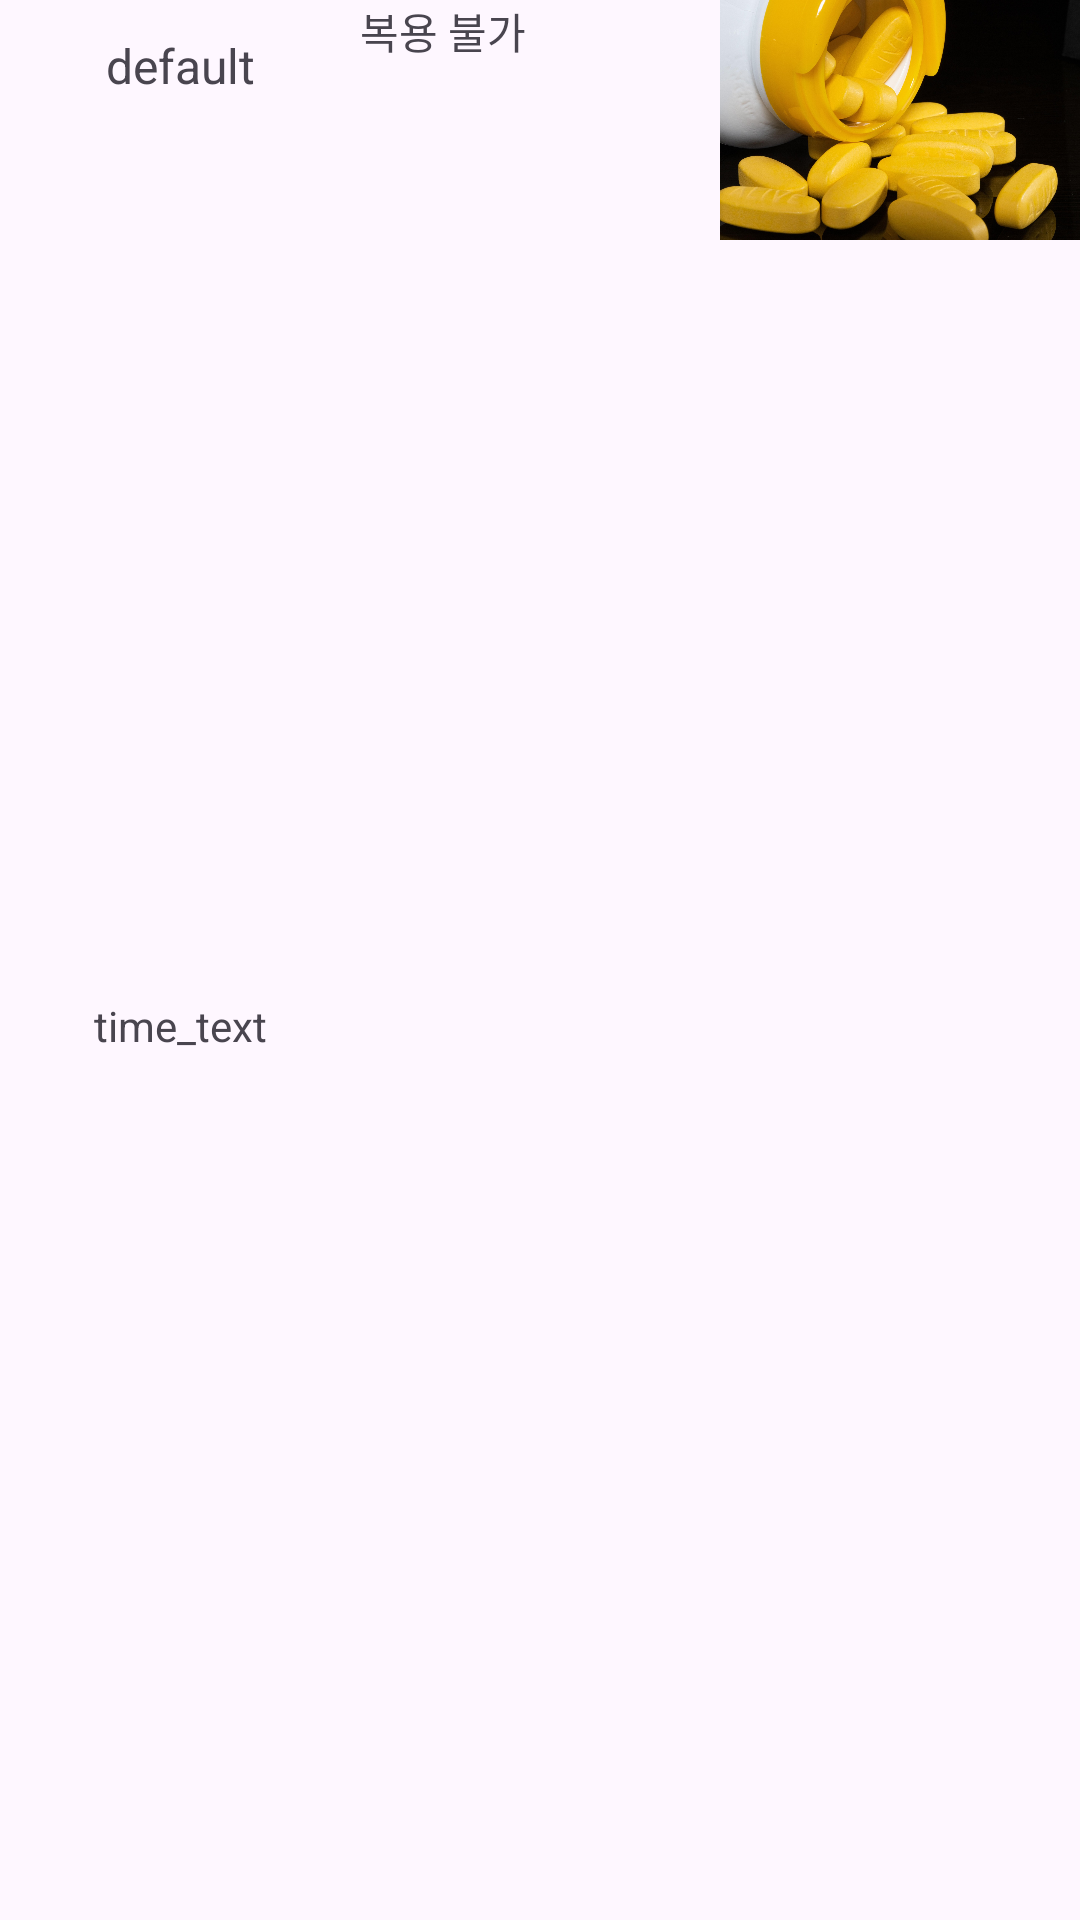

Point at icon controls on the screen. Image size 1080*1920, points as point (x, y).
medicine: point (900, 120)
